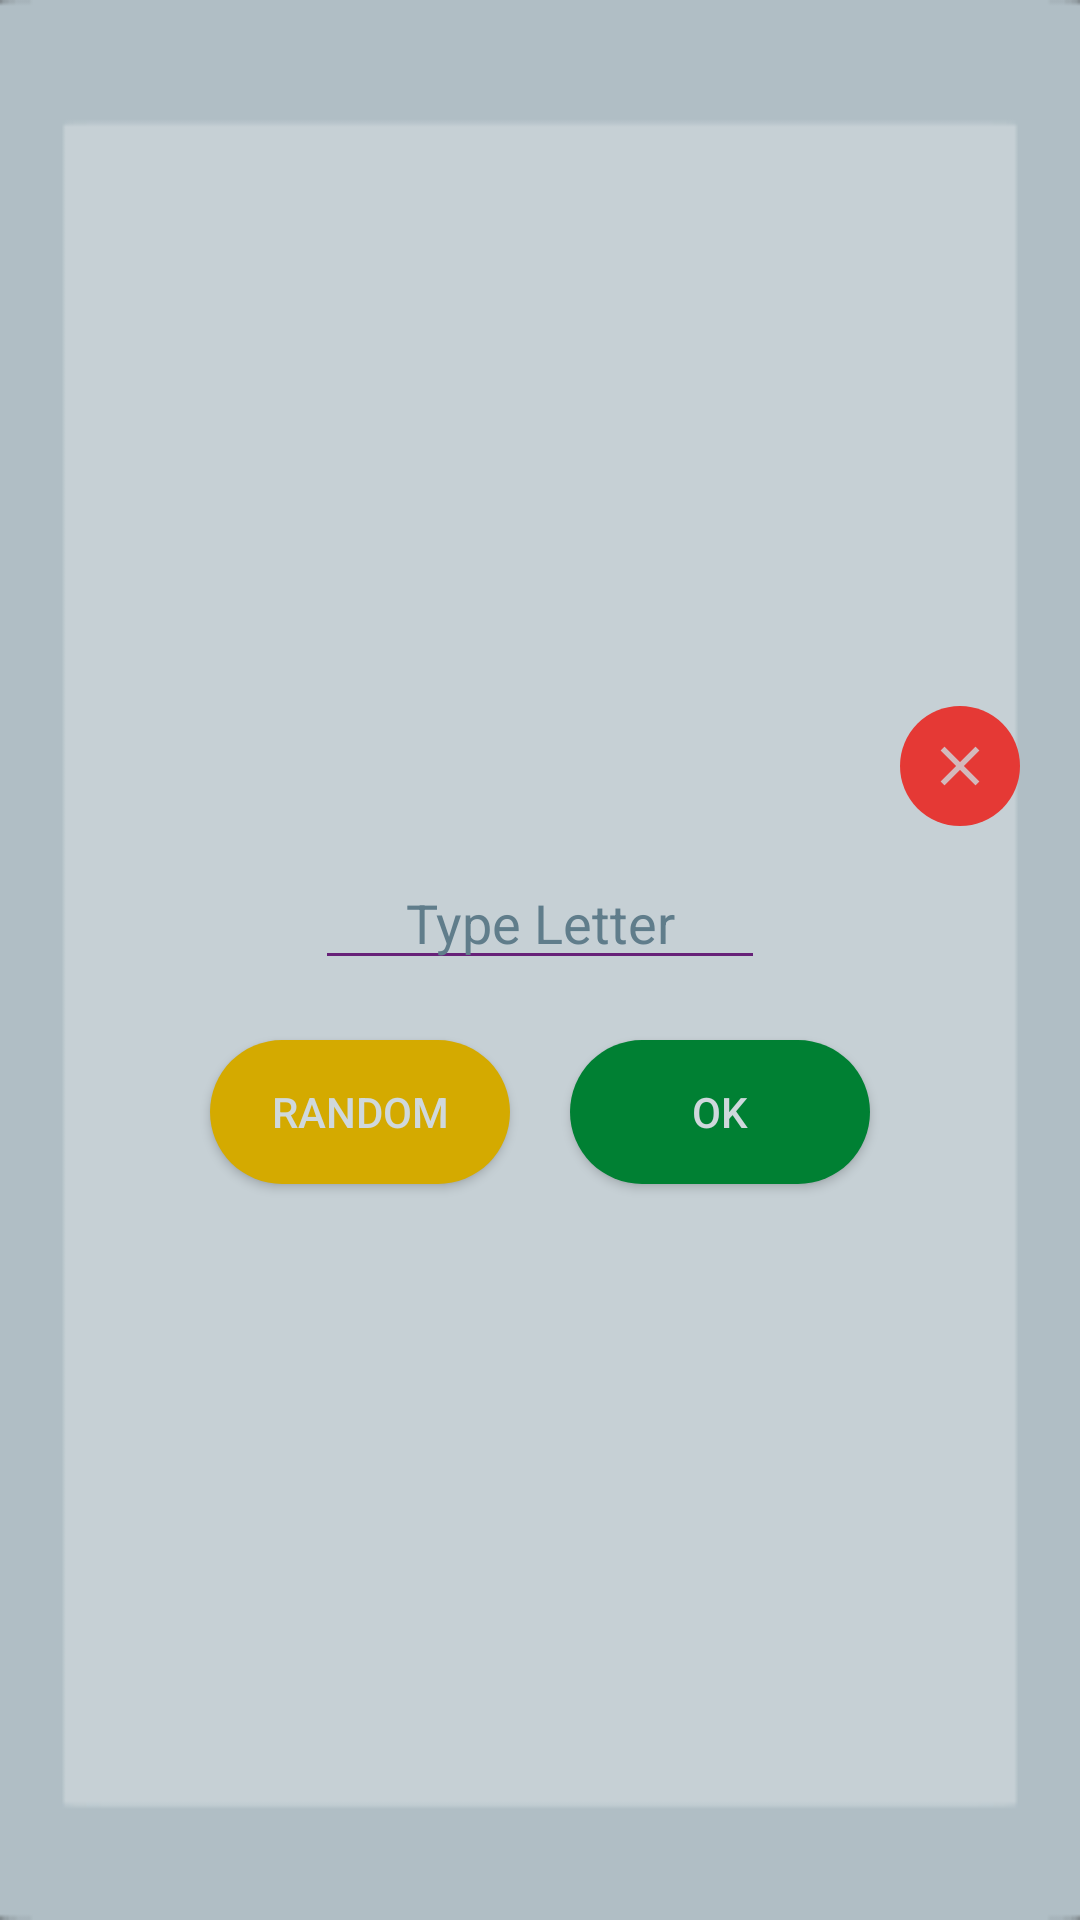

Icon bounding boxes for this 1080px x 1920px phone screenshot, format (x1, y1, x2, y2):
Close: (900, 706, 1020, 826)
